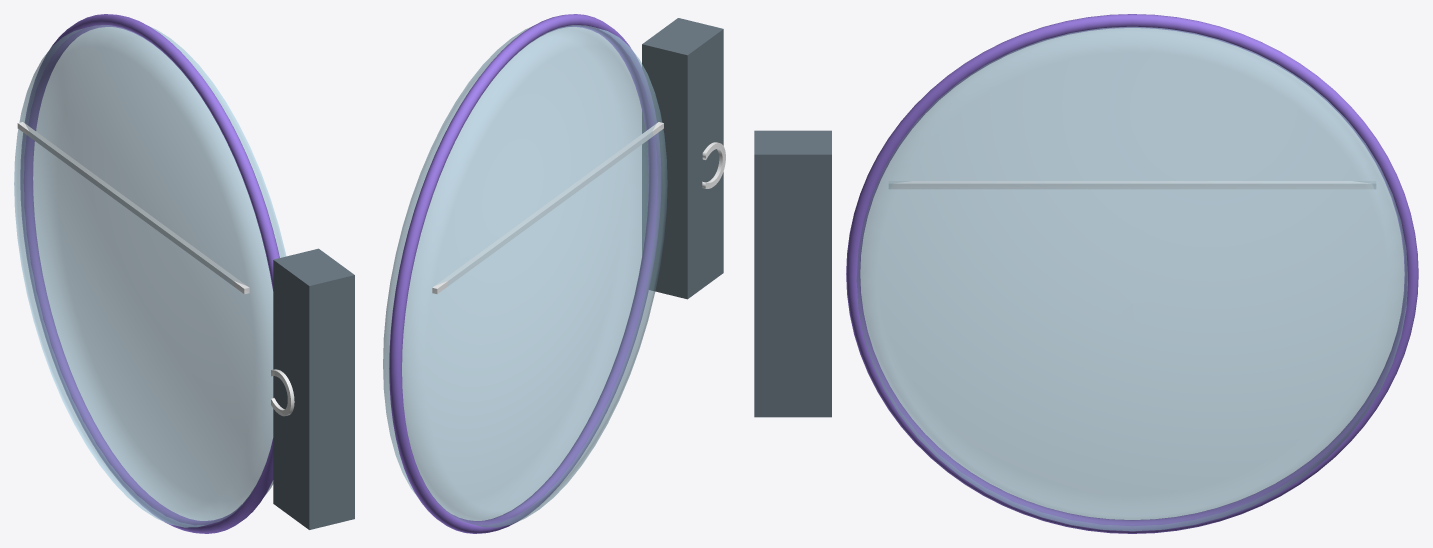
File: sim-eye-c.glb
3 renders of one model, left to right at view 1: azimuth 30°, elevation 25°; view 2: azimuth 150°, elevation 25°; view 3: azimuth 270°, elevation 25°, orthographic. The views are drawn at different scales.
Visible parts, largest first — view 1: optical element, insert tab, lens rim, vertical glint, eye label; view 2: optical element, insert tab, lens rim, vertical glint, eye label; view 3: optical element, lens rim, insert tab, vertical glint.
Part boxes in pixels (x1,y1,x2,y2): optical element: (14, 25, 286, 527); insert tab: (273, 248, 354, 529); lens rim: (20, 14, 279, 533); vertical glint: (17, 122, 249, 294); eye label: (271, 369, 294, 416); optical element: (383, 25, 667, 527); insert tab: (642, 18, 723, 299); lens rim: (389, 14, 660, 533); vertical glint: (432, 122, 663, 294); eye label: (702, 142, 725, 188); optical element: (856, 27, 1407, 531); lens rim: (846, 14, 1418, 533); insert tab: (754, 130, 831, 417); vertical glint: (889, 181, 1375, 189).
Size of the model in its own units: 0.395 by 1.62 by 1.88.
